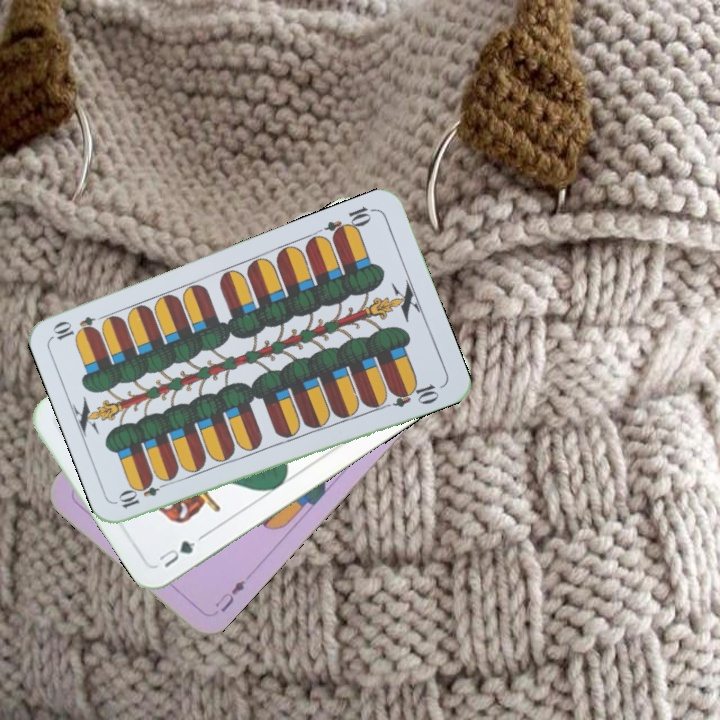E10: (321, 201, 378, 242), (115, 476, 172, 511)
EU: (211, 575, 248, 615)
GU: (155, 536, 199, 571)
